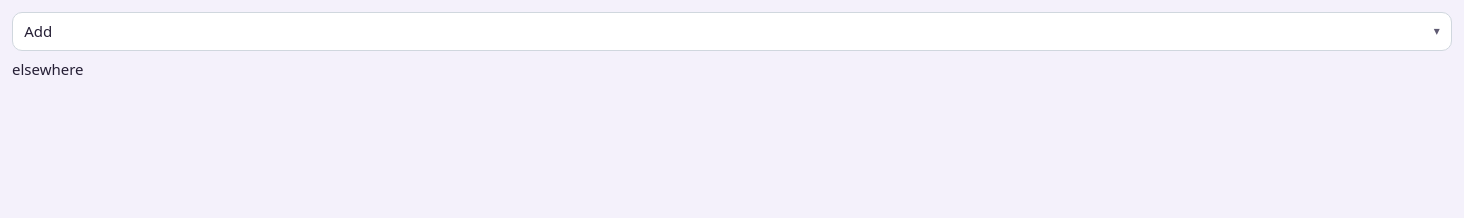
Test: FavDropdown › starts afresh after a click elsewhere
Earlier steps of the test are not shown.
Click the button with aria-label "Add an IT skill" at [38, 31], box [12,12,1452,51]
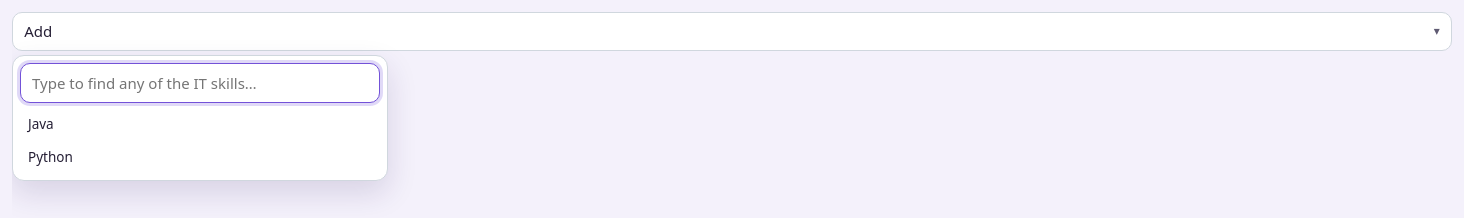
Result: the search field named "Find IT skills" is empty at [20,63,380,103]
Result: the button "Java" is shown at [20,108,380,141]
